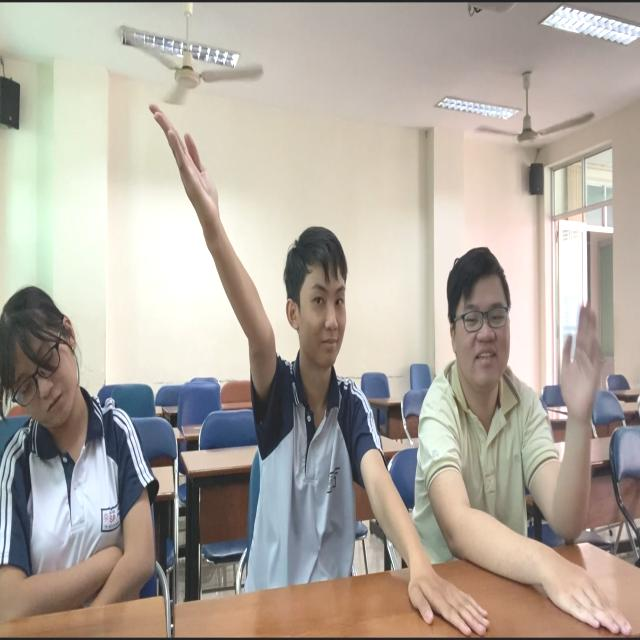raise_hand: (413, 227, 608, 596)
